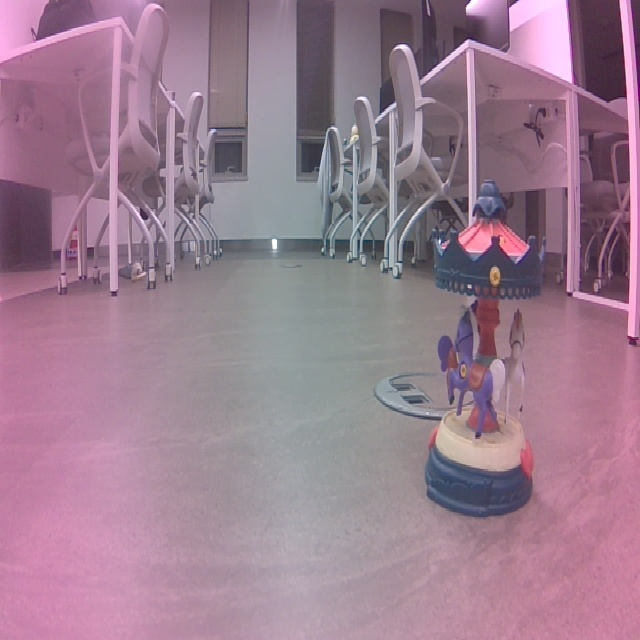목적지: (413, 174, 552, 524)
